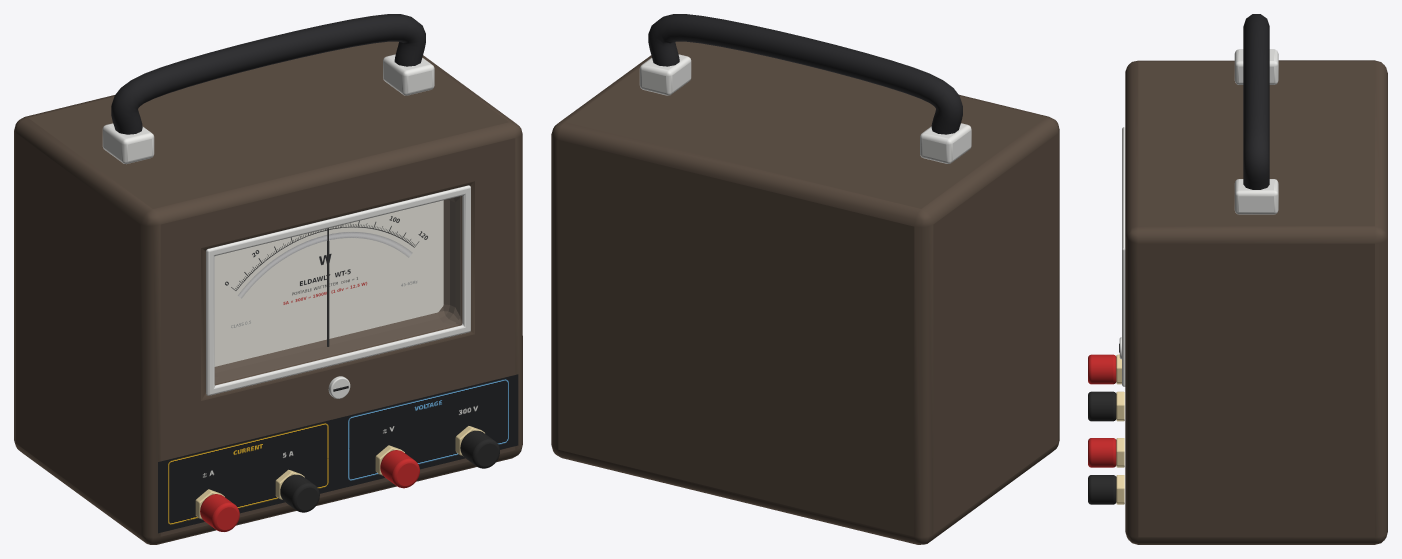
File: inst_watt.glb
3 views of the same model, side by side, from view 1: azimuth 30°, elevation 25°; view 2: azimuth 150°, elevation 25°; view 3: azimuth 270°, elevation 25° (orthographic). The views are drawn at different scales.
Parts seen in each view (by area): view 1: case, scale, panel, window, post_v300, post_i5, post_vc, post_ia; view 2: case; view 3: case, post_i5, post_v300, post_vc, window, post_ia.
Boxes of the visible parts, <box> form: case: <box>14,14,522,544</box>; scale: <box>214,200,443,366</box>; panel: <box>158,374,518,533</box>; window: <box>206,185,470,395</box>; post_v300: <box>455,426,499,468</box>; post_i5: <box>275,469,319,512</box>; post_vc: <box>375,445,419,488</box>; post_ia: <box>195,489,239,531</box>; case: <box>551,14,1059,544</box>; case: <box>1125,14,1387,544</box>; post_i5: <box>1088,391,1124,421</box>; post_v300: <box>1088,475,1124,504</box>; post_vc: <box>1088,438,1124,467</box>; window: <box>1122,127,1125,386</box>; post_ia: <box>1088,354,1121,384</box>.
Bounding box in the file's own units: 0.19 × 0.1985 × 0.137.
Materials: 11 (2 with a texture image).
